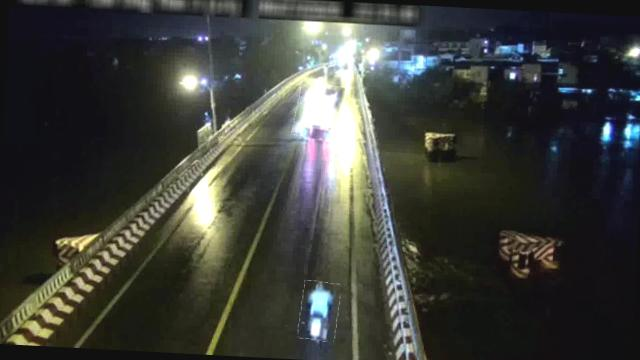Bike: (298, 280, 340, 341)
Truck: (292, 80, 343, 142)
